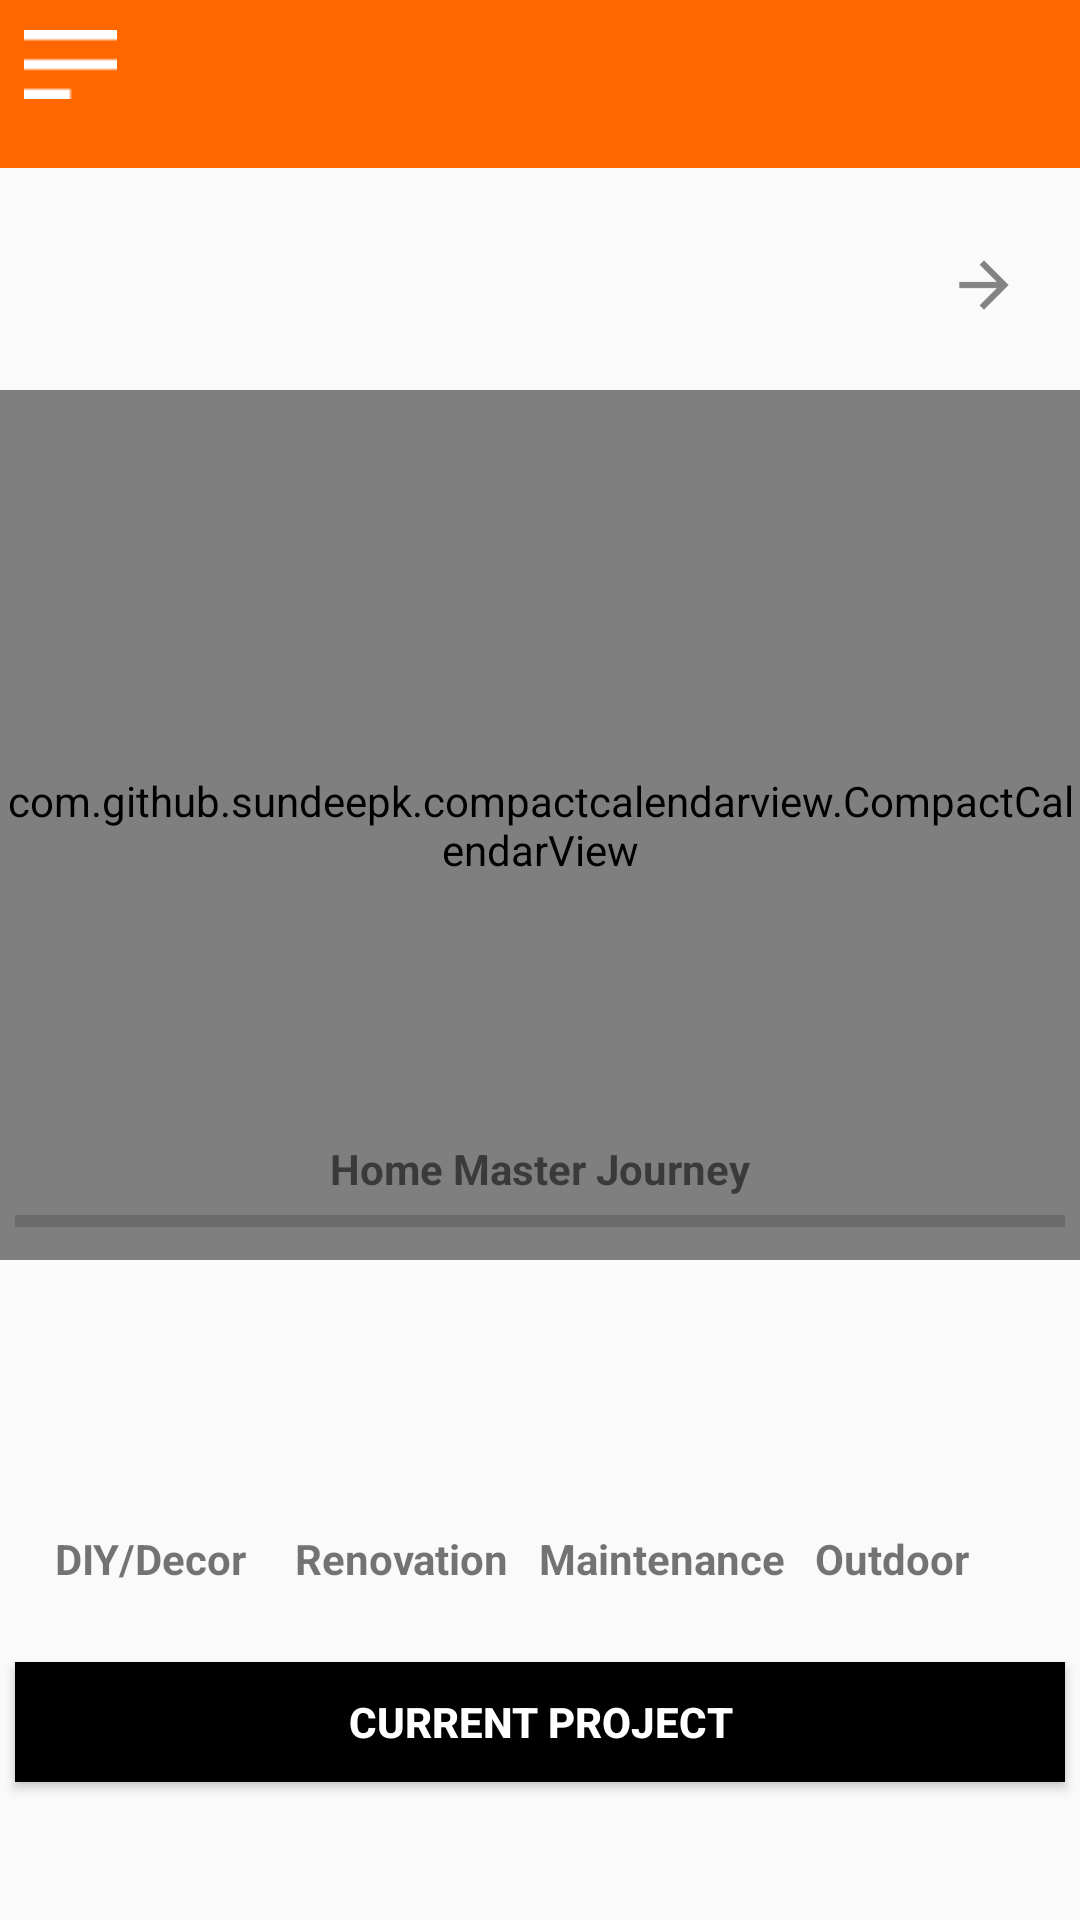

Icon bounding boxes for this 1080px x 1920px phone screenshot, format (x1, y1, x2, y2):
forward: (959, 260, 1009, 310)
